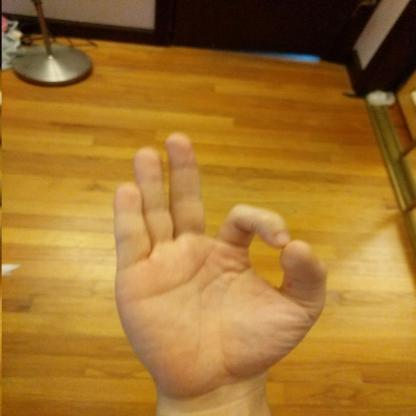F: (106, 127, 332, 402)
